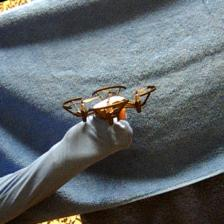drone: (62, 84, 155, 124)
